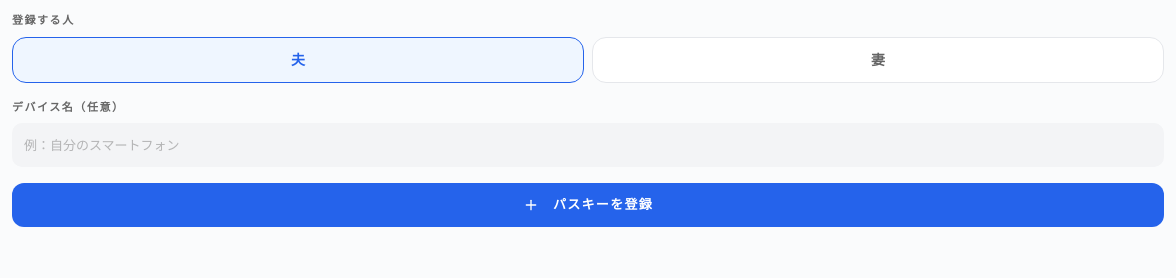
Test: passkey settings › パスキー登録の予期しない例外詳細を画面に表示しない
This screenshot has width=1176, height=278.
Click the button "パスキーを登録": (588, 205) x1=12 y1=183 x2=1164 y2=227
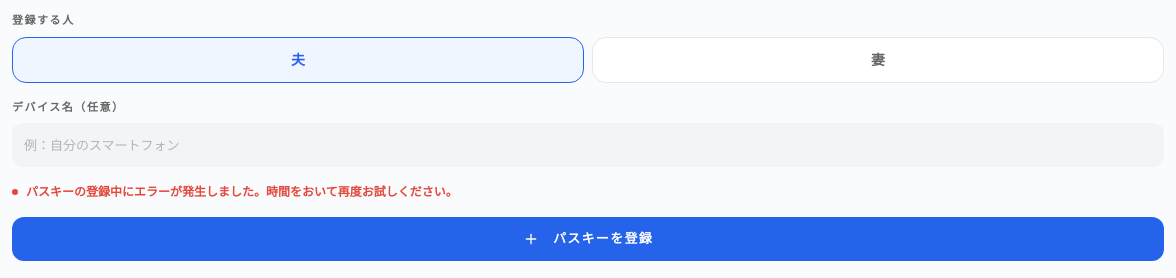
Expected: the text "パスキーの登録中にエラーが発生しました。時間をおいて再度お試しください。" is shown, x1=26 y1=183 x2=458 y2=201
